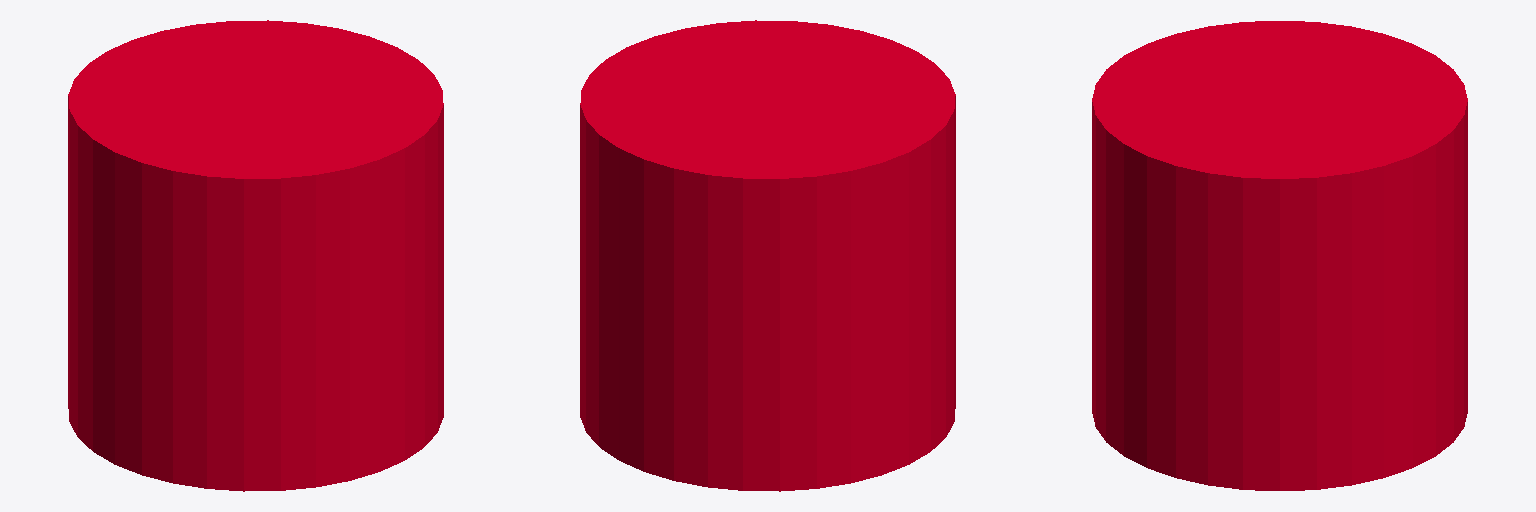
robot.urdf — cylinder:
<?xml version="1.0"?>
<robot name="cylinder">
  <link name="cylinder">
    <visual>
      <origin xyz="0 0 0"/>
      <geometry>
        <cylinder radius="0.03" length="0.055"/>
      </geometry>
       <material name="red">
        <color rgba="0.9 0 0.2 1.0"/>
      </material>
    </visual>
    <collision>
      <origin xyz="0 0 0"/>
      <geometry>
        <cylinder radius="0.03" length="0.055"/>
      </geometry>
    </collision>
    <inertial>
      <mass value="0.046"/>
      <inertia ixx="0.01" ixy="0.0" ixz="0.0" iyy="0.01" iyz="0.0" izz="0.01"/>
    </inertial>
  </link>
</robot>

--- Facts derived from the render (not from the file) ---
3 views of the same robot in one strip: view 1: azimuth 30°, elevation 25°; view 2: azimuth 150°, elevation 25°; view 3: azimuth 270°, elevation 25° (orthographic).
Model cylinder with 1 links and 0 joints (none), rooted at cylinder, posed every joint at zero.
Visible links, largest first — view 1: cylinder; view 2: cylinder; view 3: cylinder.
Boxes of the visible links, x1=… form: cylinder: x1=68, y1=20, x2=443, y2=491; cylinder: x1=580, y1=20, x2=955, y2=491; cylinder: x1=1092, y1=21, x2=1467, y2=490.
Bounding box of the posed robot: 0.06 × 0.06 × 0.055 m (x, y, z).
Geometry: primitives only (box / cylinder / sphere), no mesh files.
